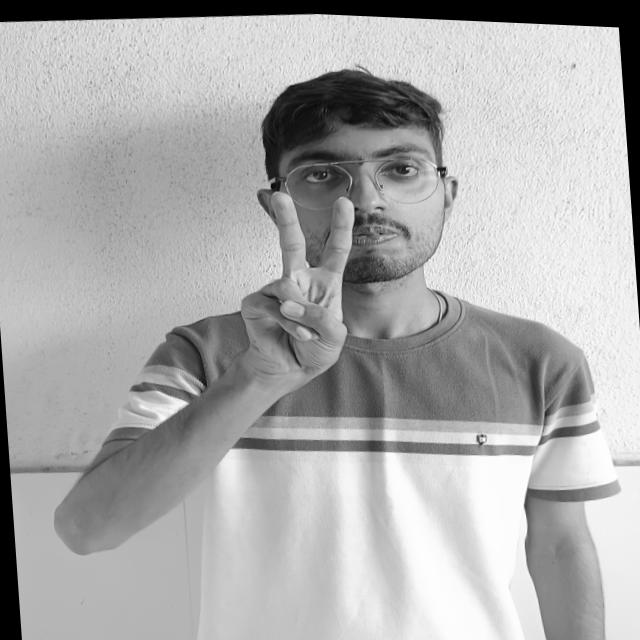Victory: (221, 177, 378, 399)
